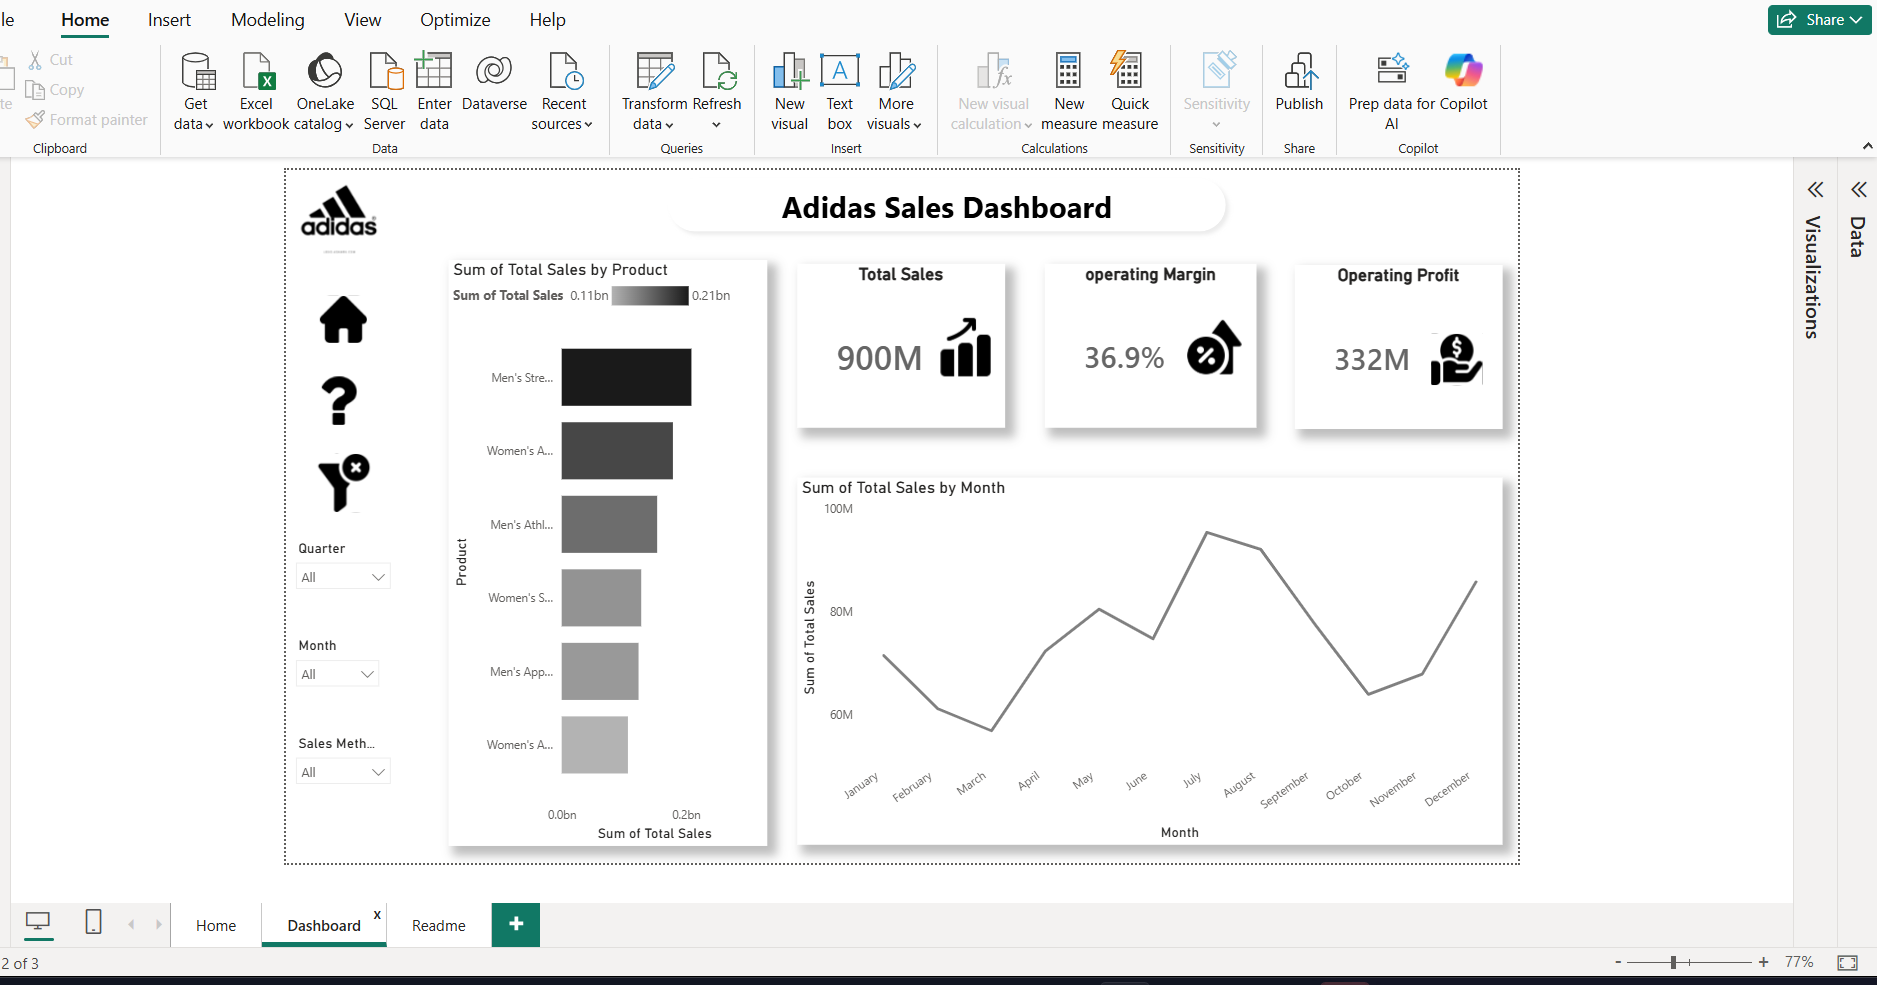

Layout of this report page (visuals, bound fields, positions):
{"tool":"powerbi","page":{"name":"Dashboard","canvas":[1280,720],"ordinal":1},"visuals":[{"type":"actionButton","box":[8.6,0,110,92.9],"z":0},{"type":"cardVisual","title":"Operating Profit","fields":{"Data":["Sum(Table1.Operating Profit)"]},"box":[1048.6,98.6,215.7,170],"z":1000},{"type":"clusteredBarChart","fields":{"Y":["Sum(Table1.Total Sales)"],"Category":["Table1.Product"]},"box":[168.6,92.9,331.4,608.6],"z":2000},{"type":"shape","box":[388.6,0,597.1,72.9],"z":3000},{"type":"shape","box":[0,111.4,118.6,608.6],"z":4000},{"type":"actionButton","box":[31.4,125.7,57.1,58.6],"z":5000},{"type":"cardVisual","title":"Total Sales","fields":{"Data":["Sum(Table1.Total Sales)"]},"box":[531.4,97.1,215.7,170],"z":6000},{"type":"cardVisual","title":"operating Margin","fields":{"Data":["Table1.Profit Margin"]},"box":[787.9,97.1,220,170],"z":7000},{"type":"lineChart","fields":{"Y":["Sum(Table1.Total Sales)"],"Category":["Table1.Invoice Date.Variation.Date Hierarchy.Month"]},"box":[531.4,320,732.9,381.4],"z":8000},{"type":"slicer","fields":{"Values":["Table1.Invoice Date.Variation.Date Hierarchy.Quarter"]},"box":[0,378.6,118.6,74.3],"z":10000},{"type":"slicer","fields":{"Values":["Table1.Invoice Date.Variation.Date Hierarchy.Month"]},"box":[0,480,107.1,75.7],"z":11000},{"type":"slicer","fields":{"Values":["Table1.Sales Method"]},"box":[0,581.4,118.6,105.7],"z":12000},{"type":"actionButton","box":[25.7,291.4,70,68.6],"z":13000},{"type":"actionButton","box":[667.1,145.7,80,77.1],"z":14000},{"type":"actionButton","box":[925.7,145.7,82.9,77.1],"z":15000},{"type":"actionButton","box":[1185.7,160,61.4,74.3],"z":16000},{"type":"actionButton","box":[25.7,210,70,58.6],"z":17000}]}

Visuals, with their boxes on the page's 1280x720 design canvas (x1, y1, x2, y2). These are canvas units, not pixel positions in the 1877x985 screenshot, which may show the page scaled, cropped or inside an application window:
actionButton: detection(9, 0, 119, 93)
"Operating Profit" cardVisual: detection(1049, 99, 1264, 269)
clusteredBarChart - Sum(Table1.Total Sales) x Table1.Product: detection(169, 93, 500, 702)
shape: detection(389, 0, 986, 73)
shape: detection(0, 111, 119, 720)
actionButton: detection(31, 126, 88, 184)
"Total Sales" cardVisual: detection(531, 97, 747, 267)
"operating Margin" cardVisual: detection(788, 97, 1008, 267)
lineChart - Sum(Table1.Total Sales) x Table1.Invoice Date.Variation.Date Hierarchy.Month: detection(531, 320, 1264, 701)
slicer - Table1.Invoice Date.Variation.Date Hierarchy.Quarter: detection(0, 379, 119, 453)
slicer - Table1.Invoice Date.Variation.Date Hierarchy.Month: detection(0, 480, 107, 556)
slicer - Table1.Sales Method: detection(0, 581, 119, 687)
actionButton: detection(26, 291, 96, 360)
actionButton: detection(667, 146, 747, 223)
actionButton: detection(926, 146, 1009, 223)
actionButton: detection(1186, 160, 1247, 234)
actionButton: detection(26, 210, 96, 269)
